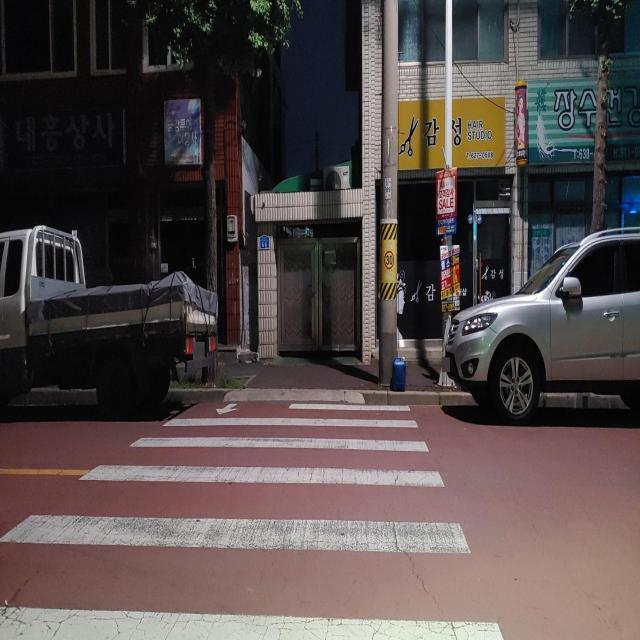횡단보도: (1, 396, 510, 640)
